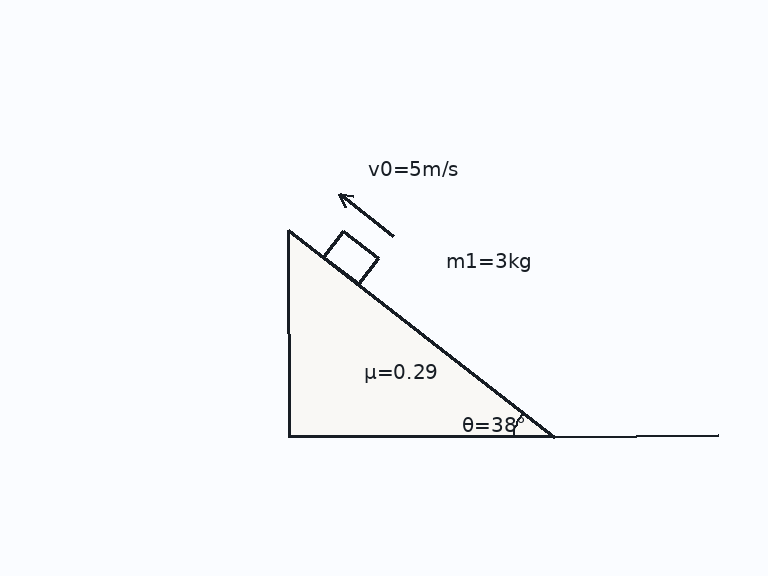block: (321, 229, 380, 286)
ramp: (286, 228, 556, 439)
